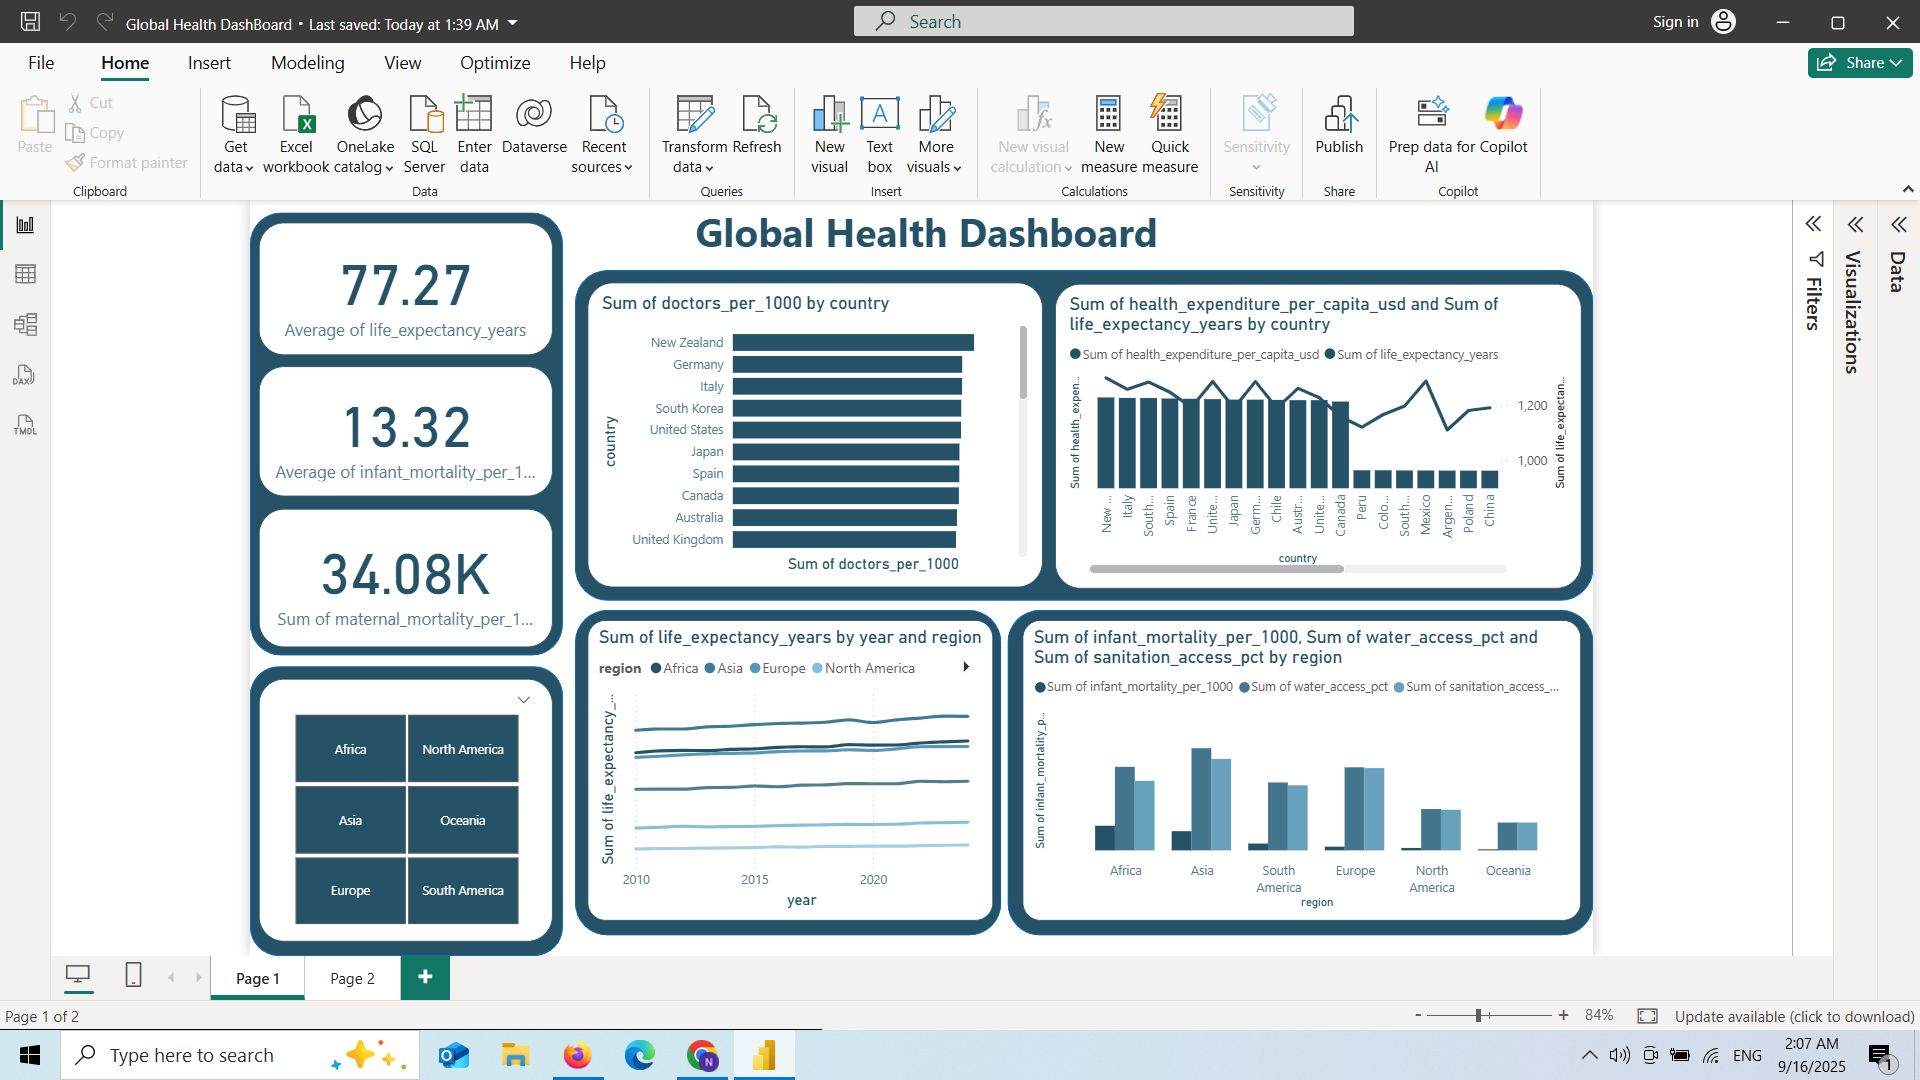

What the dashboard file says about the page in this screenshot:
{"tool":"powerbi","page":{"name":"Page 1","canvas":[1280,720],"ordinal":0},"visuals":[{"type":"shape","box":[0,444,298,276],"z":0},{"type":"shape","box":[722,390,558,310],"z":1000},{"type":"shape","box":[310,390,406,310],"z":2000},{"type":"shape","box":[310,66.7,970,315],"z":3000},{"type":"textbox","box":[9.4,0,1269.9,73.7],"z":4000},{"type":"lineChart","fields":{"Category":["global_health_2010_2024.year"],"Y":["Sum(global_health_2010_2024.life_expectancy_years)"],"Series":["global_health_2010_2024.region"]},"box":[322,400,386,286],"z":5000},{"type":"shape","box":[0,12,298,422],"z":6000},{"type":"card","fields":{"Values":["Avg(global_health_2010_2024.infant_mortality_per_1000)"]},"box":[8,158,280,124],"z":7000},{"type":"card","fields":{"Values":["Avg(global_health_2010_2024.life_expectancy_years)"]},"box":[8.3,21.7,280,126.7],"z":8000},{"type":"card","fields":{"Values":["Sum(global_health_2010_2024.maternal_mortality_per_100k)"]},"box":[8,294,280,132],"z":9000},{"type":"barChart","fields":{"Y":["Sum(global_health_2010_2024.doctors_per_1000)"],"Category":["global_health_2010_2024.country"]},"box":[321.7,78.3,433.3,290],"z":10000},{"type":"lineStackedColumnComboChart","fields":{"Y2":["Sum(global_health_2010_2024.life_expectancy_years)"],"Y":["Sum(global_health_2010_2024.health_expenditure_per_capita_usd)"],"Category":["global_health_2010_2024.country"]},"box":[766.7,80,501.7,290],"z":11000},{"type":"clusteredColumnChart","fields":{"Category":["global_health_2010_2024.region"],"Y":["Sum(global_health_2010_2024.infant_mortality_per_1000)","Sum(global_health_2010_2024.water_access_pct)","Sum(global_health_2010_2024.sanitation_access_pct)"]},"box":[736,400,532,286],"z":12000},{"type":"slicer","fields":{"Values":["global_health_2010_2024.region"]},"box":[8,456,280,250],"z":13000}]}

Visuals, with their boxes on the page's 1280x720 design canvas (x1, y1, x2, y2). These are canvas units, not pixel positions in the 1920x1080 screenshot, which may show the page scaled, cropped or inside an application window:
shape: <region>0, 444, 298, 720</region>
shape: <region>722, 390, 1280, 700</region>
shape: <region>310, 390, 716, 700</region>
shape: <region>310, 67, 1280, 382</region>
textbox: <region>9, 0, 1279, 74</region>
lineChart - global_health_2010_2024.year x Sum(global_health_2010_2024.life_expectancy_years): <region>322, 400, 708, 686</region>
shape: <region>0, 12, 298, 434</region>
card - Avg(global_health_2010_2024.infant_mortality_per_1000): <region>8, 158, 288, 282</region>
card - Avg(global_health_2010_2024.life_expectancy_years): <region>8, 22, 288, 148</region>
card - Sum(global_health_2010_2024.maternal_mortality_per_100k): <region>8, 294, 288, 426</region>
barChart - Sum(global_health_2010_2024.doctors_per_1000) x global_health_2010_2024.country: <region>322, 78, 755, 368</region>
lineStackedColumnComboChart - Sum(global_health_2010_2024.life_expectancy_years) x Sum(global_health_2010_2024.health_expenditure_per_capita_usd): <region>767, 80, 1268, 370</region>
clusteredColumnChart - global_health_2010_2024.region x Sum(global_health_2010_2024.infant_mortality_per_1000): <region>736, 400, 1268, 686</region>
slicer - global_health_2010_2024.region: <region>8, 456, 288, 706</region>
